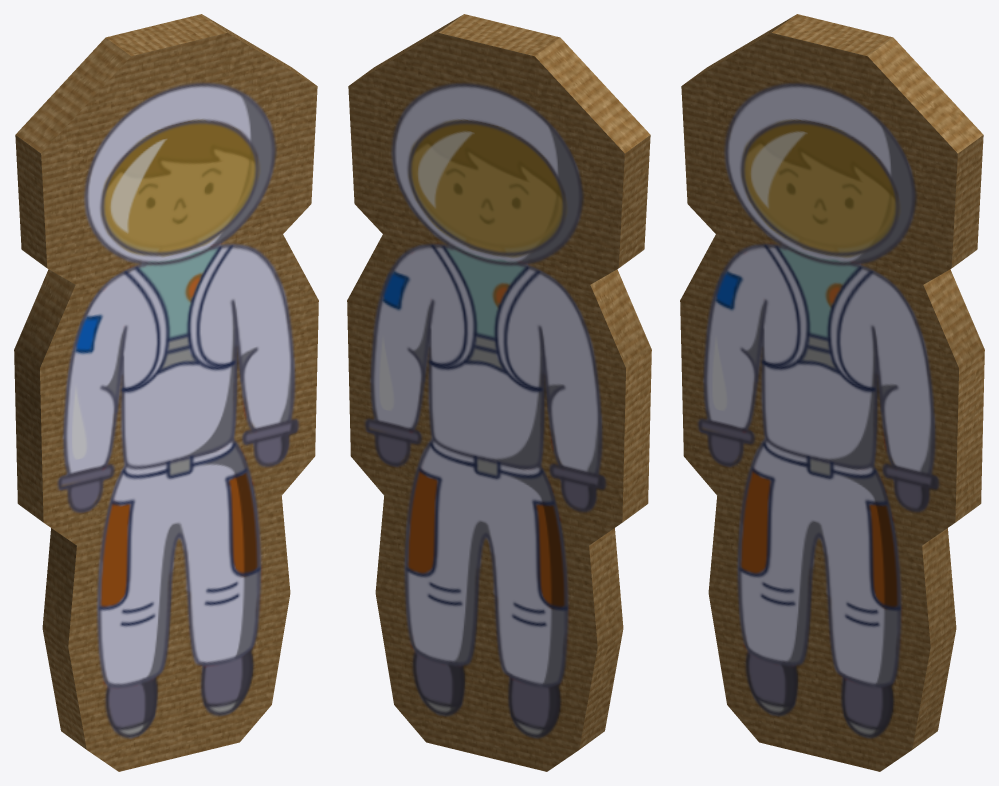
Rendered from Astronaut_02.fbx.
The picture shows the model from 3 angles, left to right: view 1: azimuth 30°, elevation 25°; view 2: azimuth 150°, elevation 25°; view 3: azimuth 330°, elevation 25°; orthographic projection.
Visible parts, largest first — view 1: Astronaut_02; view 2: Astronaut_02; view 3: Astronaut_02.
Part boxes in pixels (x1,y1,x2,y2): Astronaut_02: (14, 14, 318, 771); Astronaut_02: (347, 14, 651, 771); Astronaut_02: (680, 14, 984, 771).
Size of the model in its own units: 0.3479 by 0.8492 by 0.0556.
